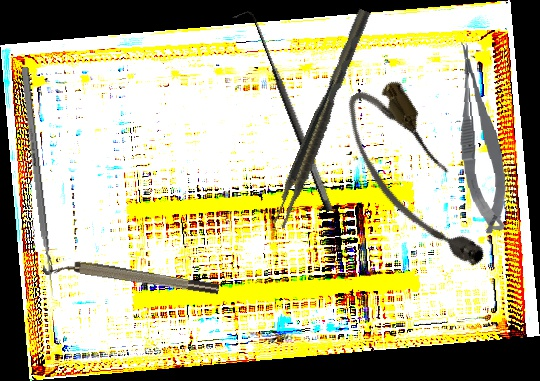Cannula: (332, 71, 499, 289)
Fixation Ring: (41, 250, 221, 305)
Hook Surgical: (232, 7, 336, 219)
Micro Scissor: (452, 38, 511, 237)
Pusher: (20, 66, 57, 298)
Tissue Forceps: (268, 8, 378, 230)
